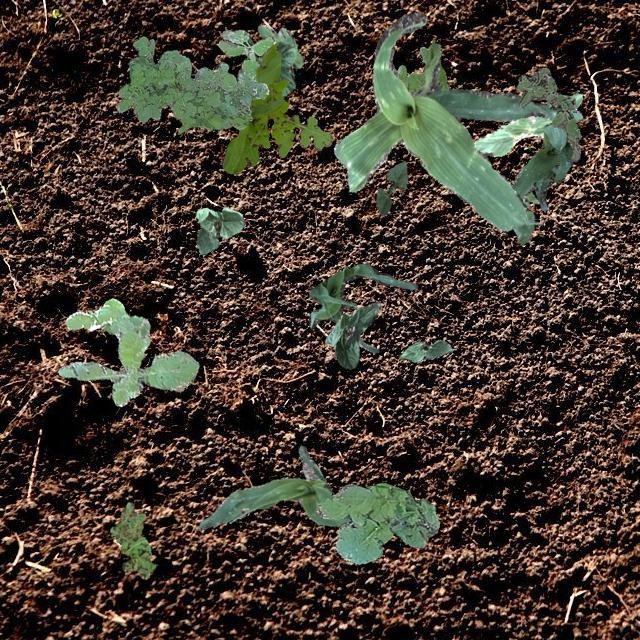crop: (332, 12, 582, 230), (196, 444, 348, 528), (308, 262, 417, 352), (472, 92, 582, 156), (510, 122, 572, 210), (236, 24, 302, 96), (324, 301, 381, 368), (194, 206, 244, 254), (374, 160, 408, 214), (398, 338, 452, 361)
weed: (56, 298, 198, 406), (115, 36, 268, 132), (222, 44, 331, 172), (316, 482, 438, 564), (516, 66, 580, 160), (109, 500, 154, 578), (216, 29, 274, 80), (397, 46, 447, 94), (512, 190, 538, 243)
